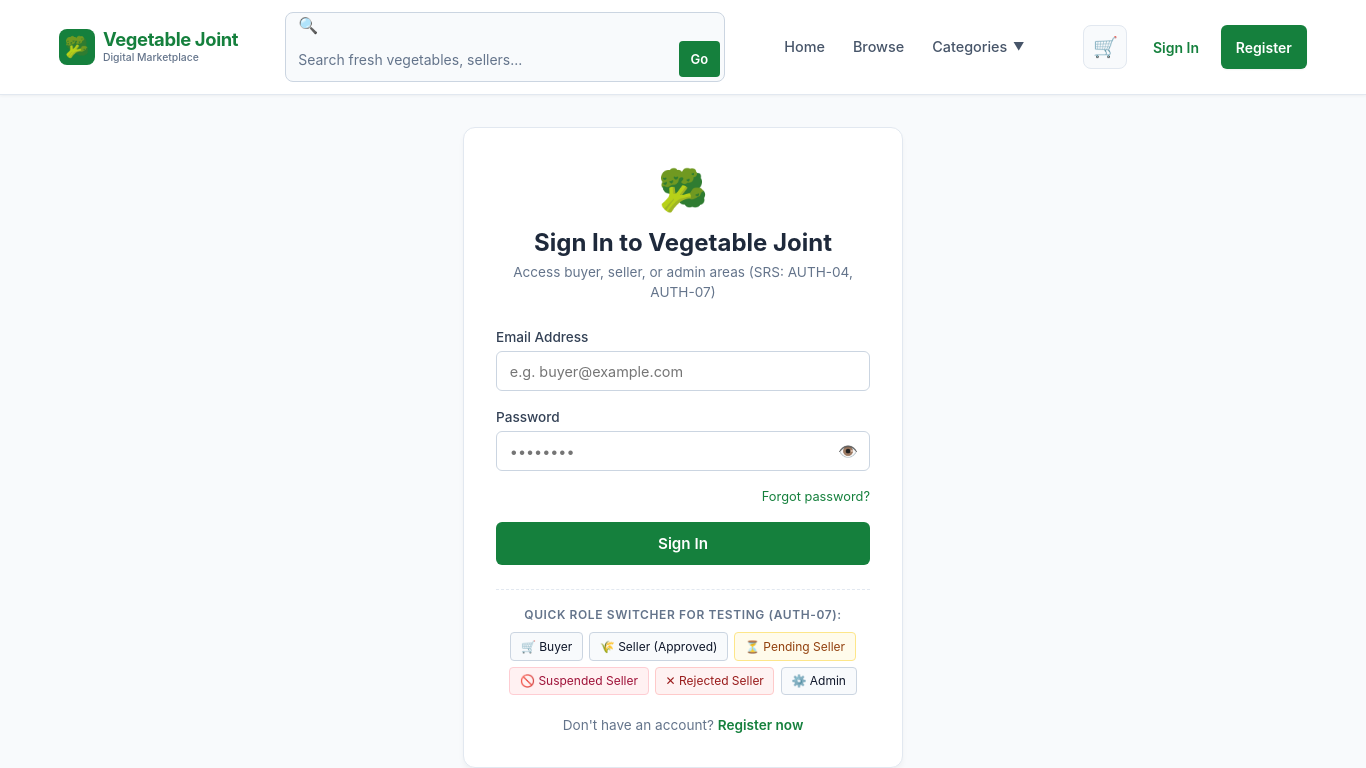
FE-114 E2E: Buyer Purchase Journey (TC-08 to TC-16) › TC-14: Login with wrong password (AUTH-04, AUTH-09) › returns generic "Invalid login credentials." and discloses nothing about email existence
The image size is (1366, 768).
expect the heading "Sign In to Vegetable Joint" is shown: met, box [534,228,832,257]
Valid email with incorrect password
Type "buyer@example.com" into the field labelled "Email Address" at point(683, 371), box [496,351,870,391]
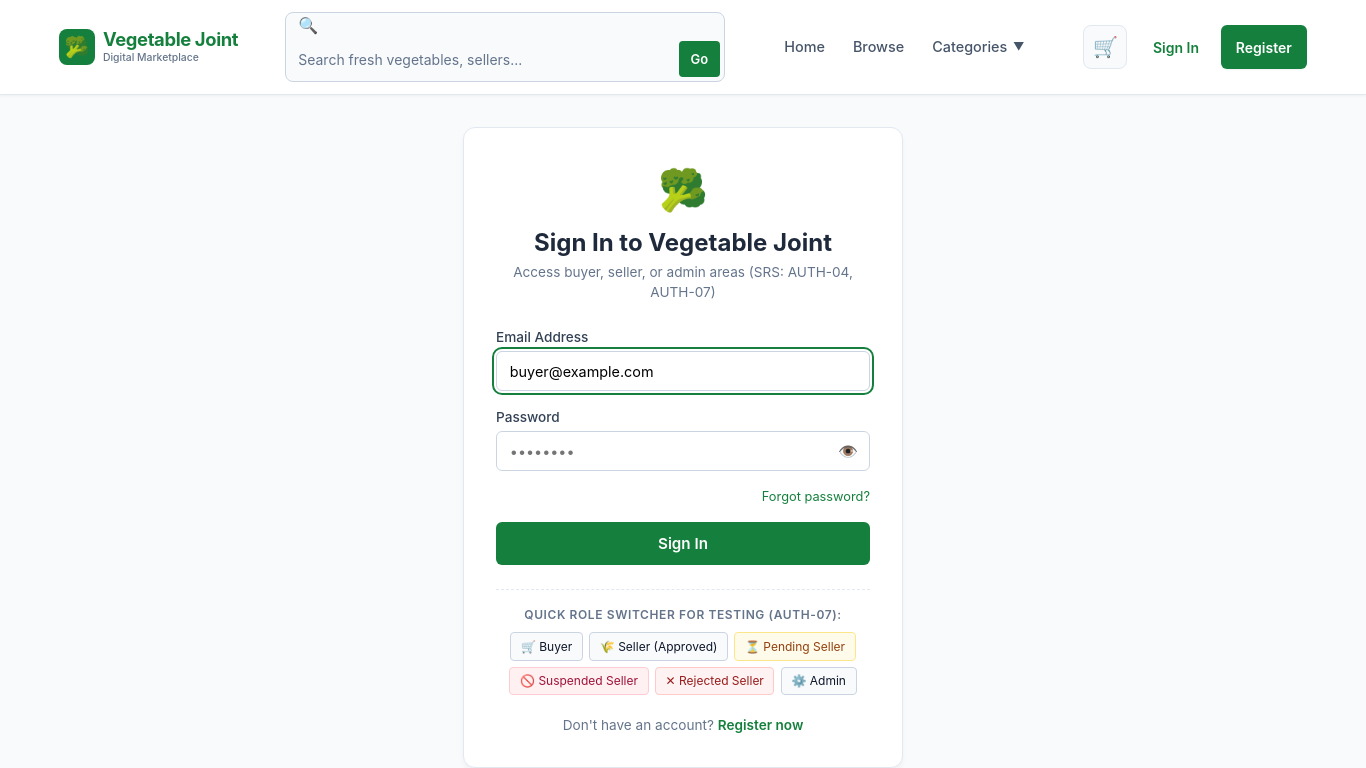
Type "wrongPassword999" into the password field labelled "Password" at point(683, 451), box [496,431,870,471]
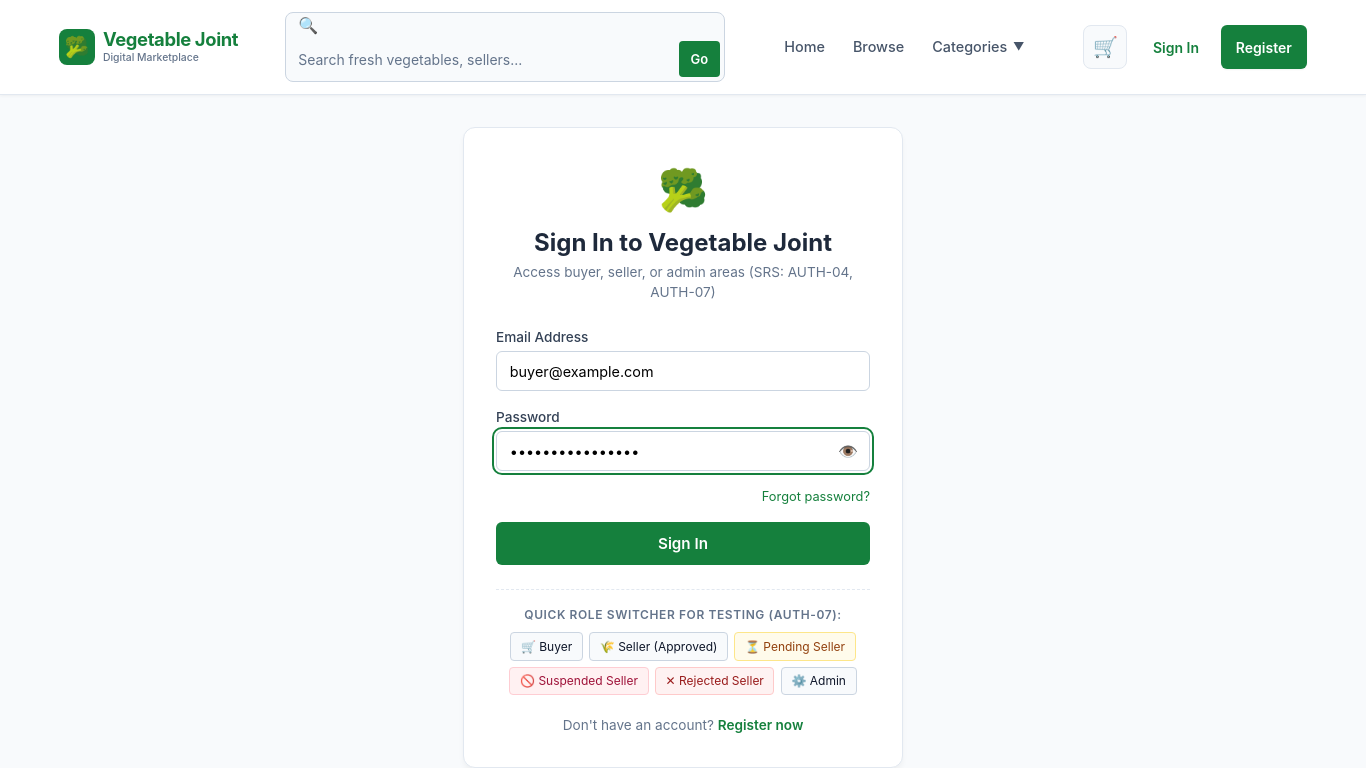
Click the button "Sign In" at point(683, 544), box [496,522,870,565]
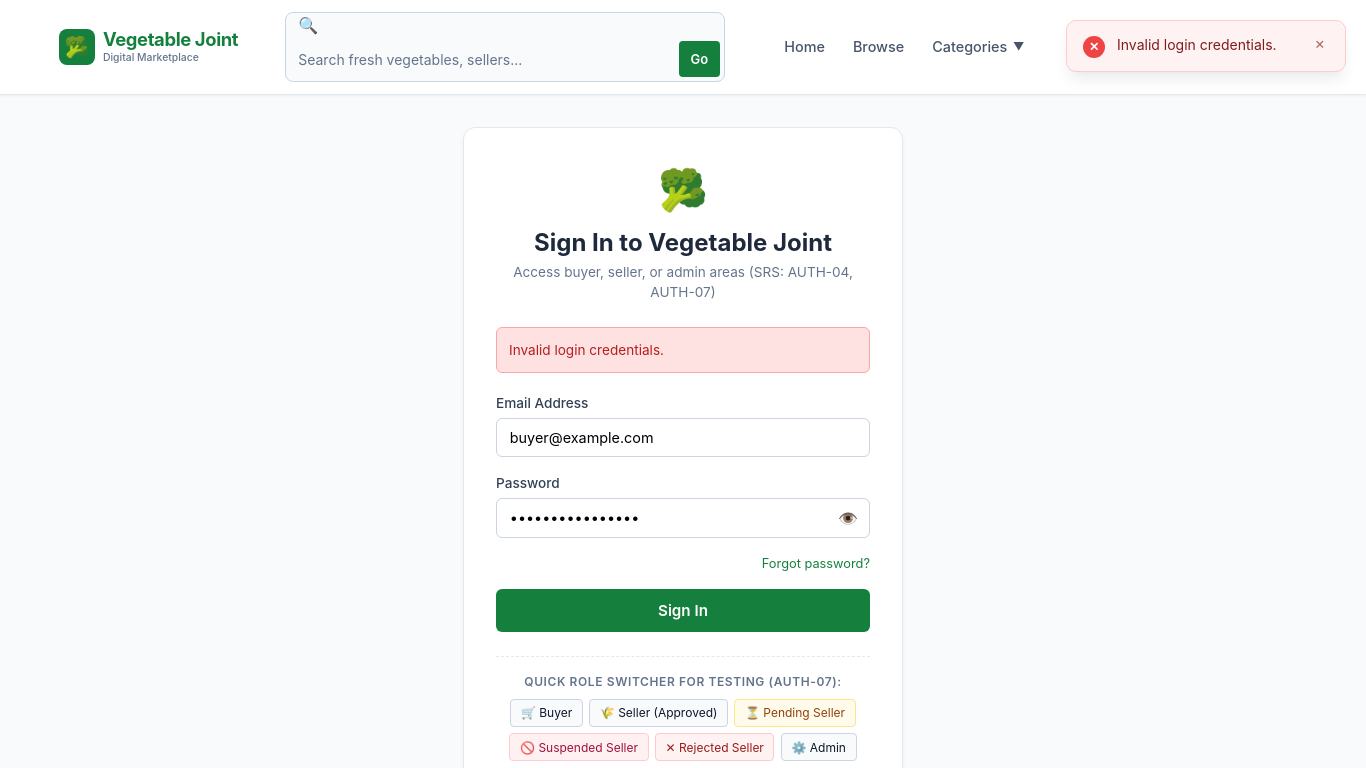
expect the button "Sign In" is shown: met, box [496,589,870,632]
expect the message with test id "login-error-message" reads "Invalid login credentials.": met, box [509,342,664,358]
